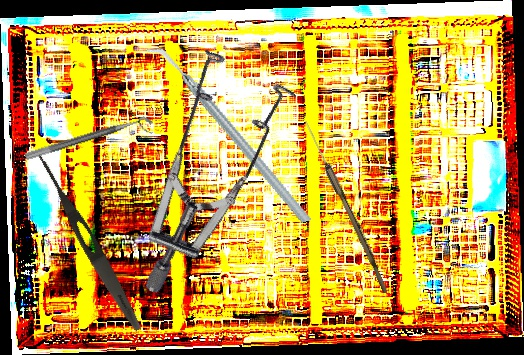Chopper: (144, 17, 312, 252)
Dressing Forceps: (28, 147, 147, 335)
Fixation Ring: (24, 114, 156, 171)
Speculum: (53, 21, 346, 298)
Surgical Spoon: (301, 119, 392, 294)
